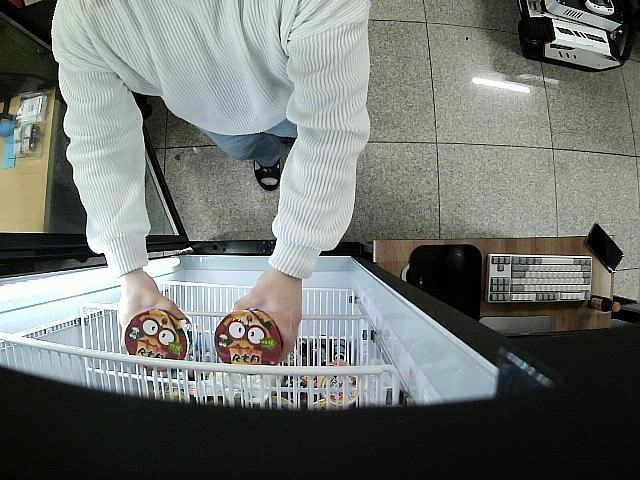06_nuguri_S: (213, 311, 282, 378), (124, 311, 196, 373)
